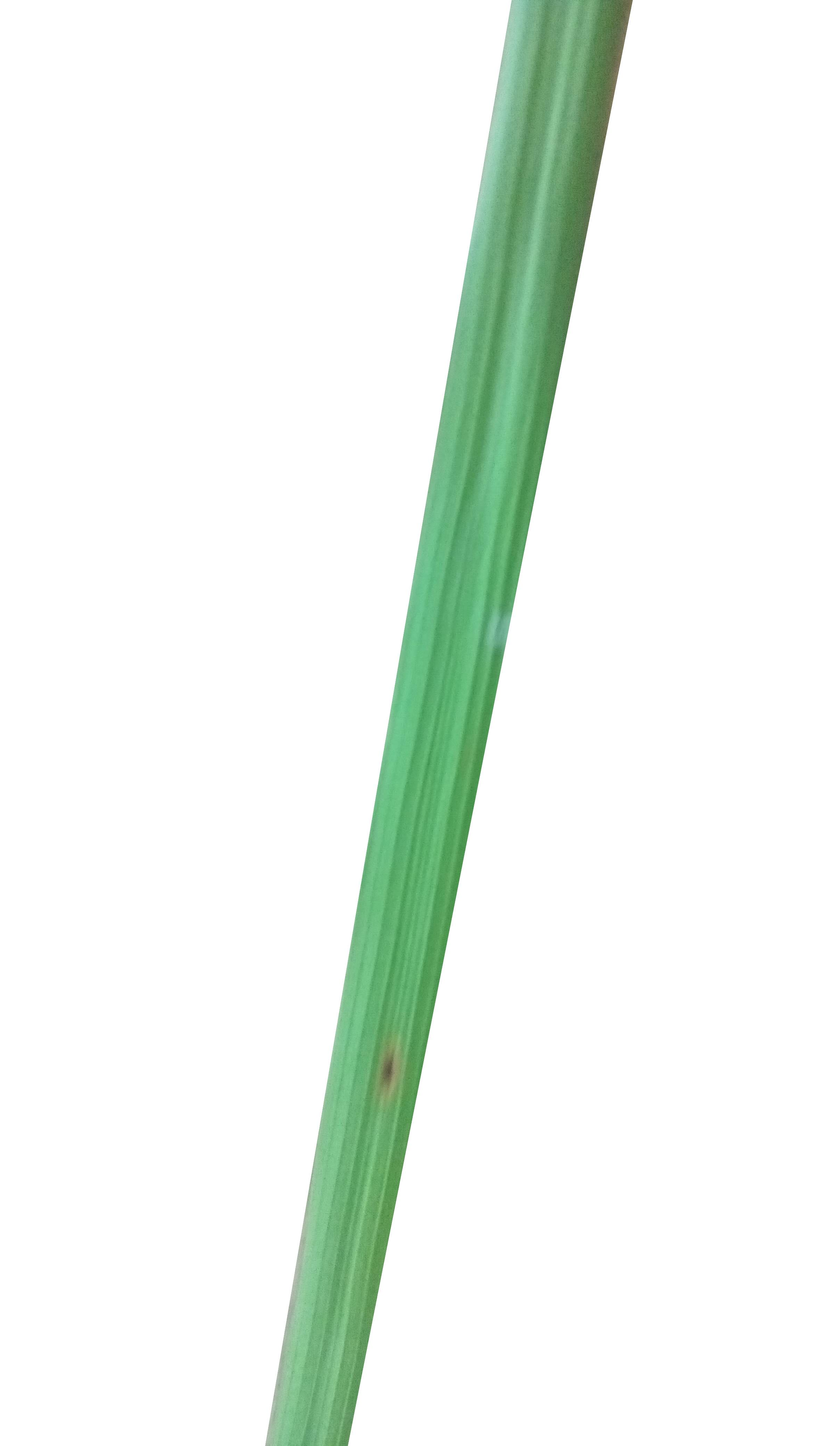Brown spot: (358, 1018, 403, 1102)
